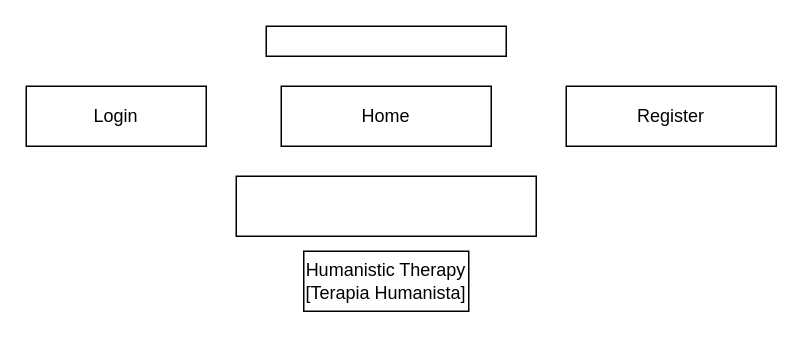
This 803x338 diagram has some shape labels left out. Each missing label, with the centre of its shape:
"Cognitive Behavioral Therapy [Terapia Comportamental-Cognitiva]" goes at pixel 385 205.
"Landing Page" goes at pixel 385 40.
